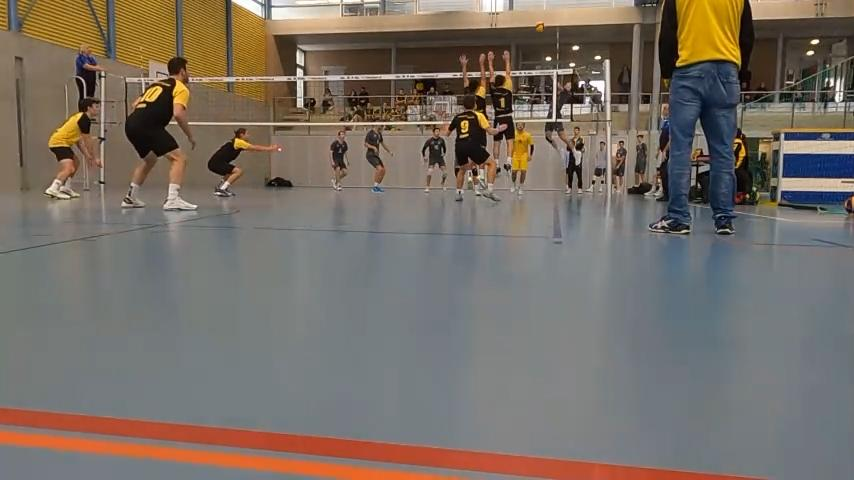attacco: (543, 61, 586, 170)
muro: (486, 48, 517, 175), (451, 44, 486, 128)
